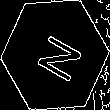N_NW: (27, 26, 83, 84)
